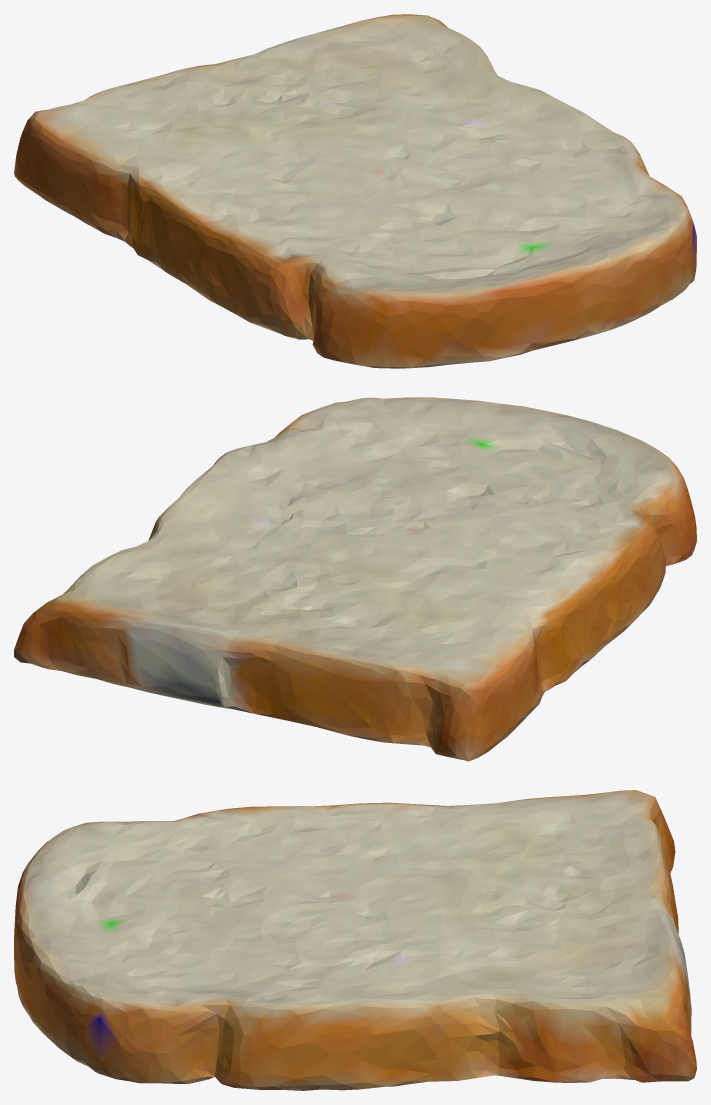
Rendered from scan.obj.
3 renders of one model, top to bottom at view 1: azimuth 30°, elevation 25°; view 2: azimuth 150°, elevation 25°; view 3: azimuth 270°, elevation 25°, orthographic. The views are drawn at different scales.
Parts seen in each view (by area): view 1: scan.ply; view 2: scan.ply; view 3: scan.ply.
Boxes of the visible parts, x1=… form: scan.ply: x1=14, y1=14, x2=696, y2=368; scan.ply: x1=14, y1=397, x2=696, y2=761; scan.ply: x1=14, y1=790, x2=696, y2=1090.
Size of the model in its own units: 0.1067 by 0.018 by 0.1341.
